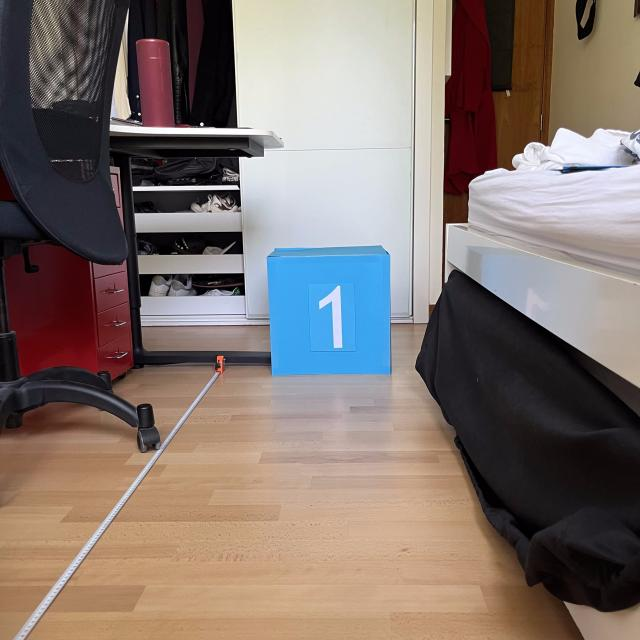box: (262, 240, 396, 378)
